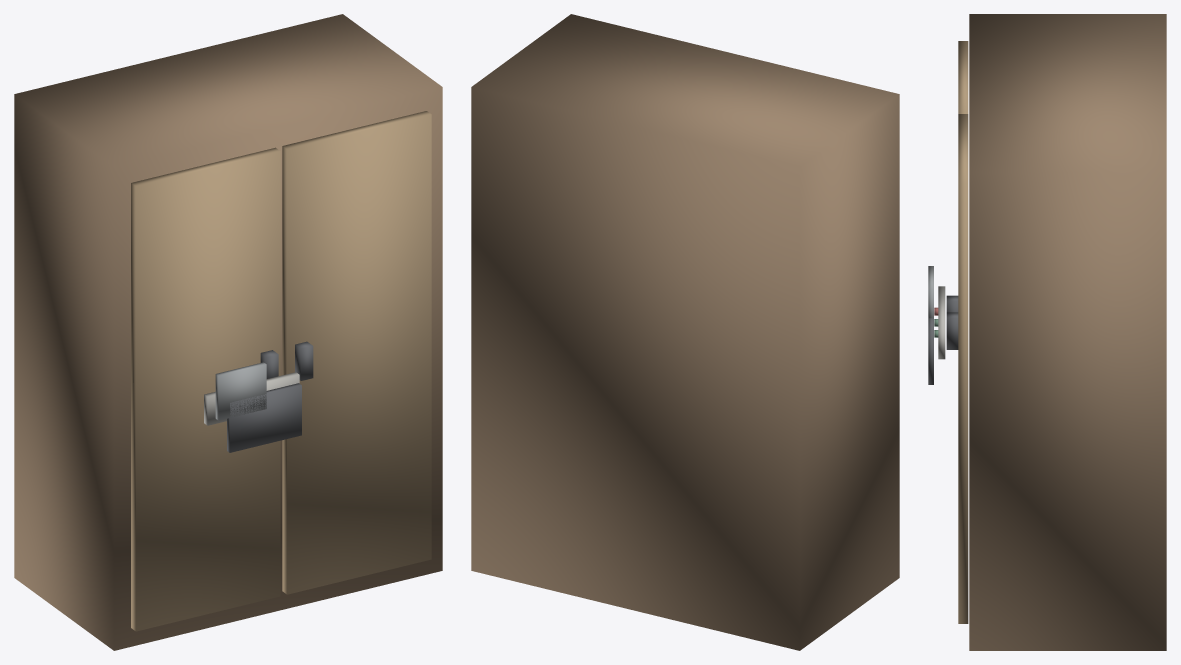
The model's file is kitchen_base_cabinet__weathered.glb.
The picture shows the model from 3 angles, left to right: view 1: azimuth 30°, elevation 25°; view 2: azimuth 150°, elevation 25°; view 3: azimuth 270°, elevation 25°; orthographic projection.
Parts seen in each view (by area): view 1: world; view 2: world; view 3: world.
Boxes of the visible parts, bbox=[...] form: world: bbox=[14, 14, 442, 650]; world: bbox=[471, 14, 899, 650]; world: bbox=[928, 14, 1166, 650].
Size of the model in its own units: 0.95 by 1.34 by 0.6041.
